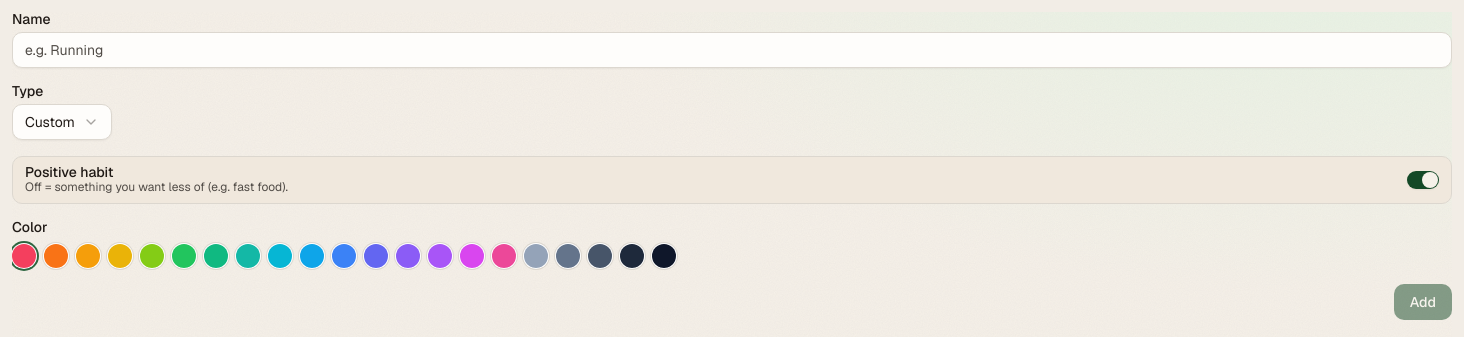
Test case: HabitForm › includes red in the selector for negative custom habits
This screenshot has width=1464, height=337.
Click the switch named "Positive habit" at (1423, 180), box [1407, 171, 1439, 189]
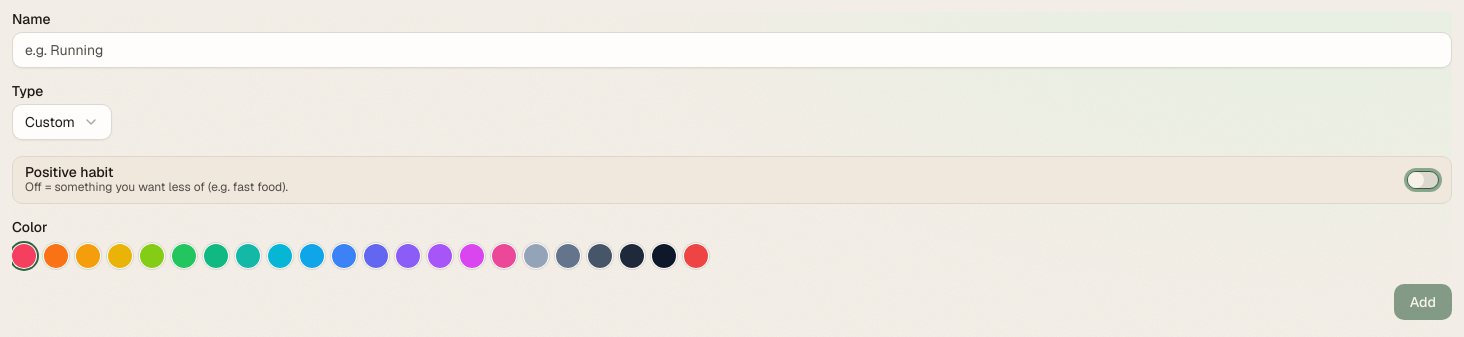
Result: the radio button named "#ef4444" is shown at [684, 244, 708, 268]
